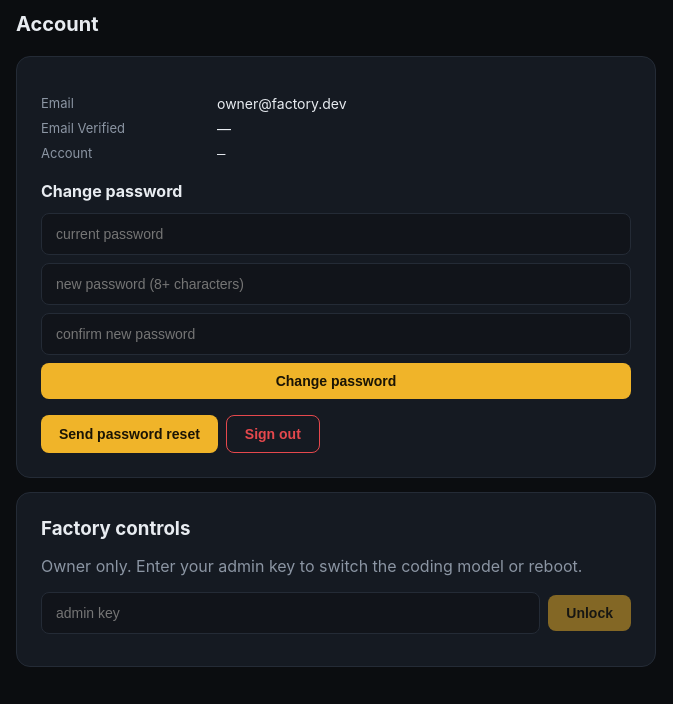
Account change password › posts current and new password and keeps Send password reset
The width and height of the screenshot is (673, 704).
Expected: the heading "Change password" is shown, [41,181,182,201]
Type "old-pass-123" into the password field with placeholder "current password". click: point(336, 234)
box: [41,213,631,255]
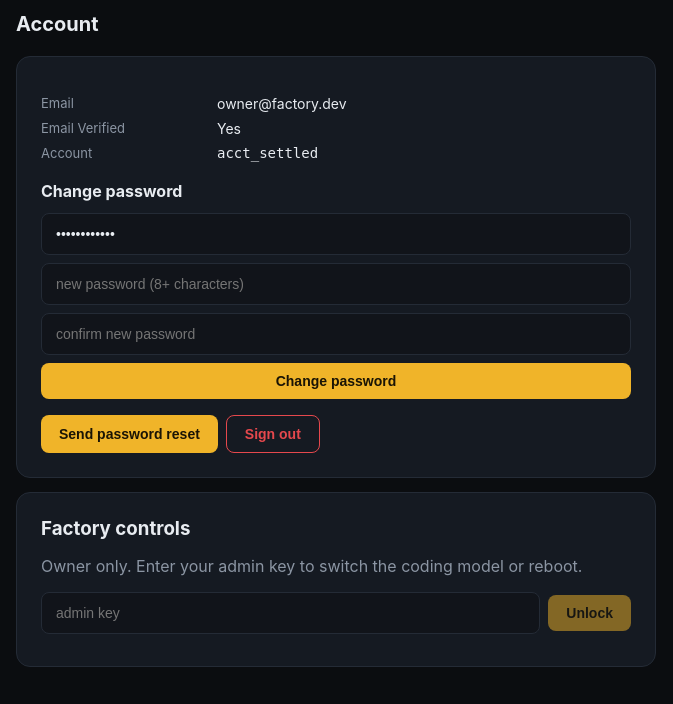
Type "new-pass-456" into the password field with placeholder "new password (8+ characters)". click: point(336, 284)
box: [41,263,631,305]
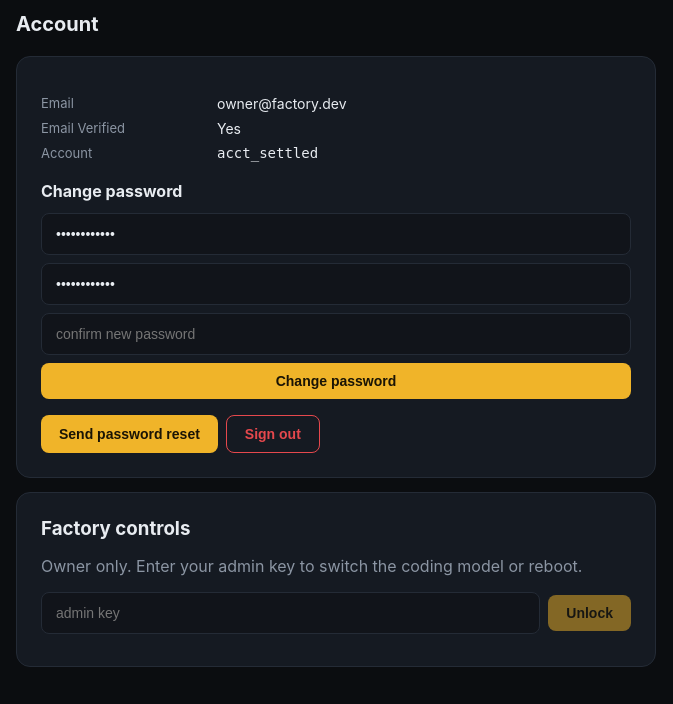
Type "new-pass-456" into the password field with placeholder "confirm new password". click: point(336, 334)
box: [41,313,631,355]
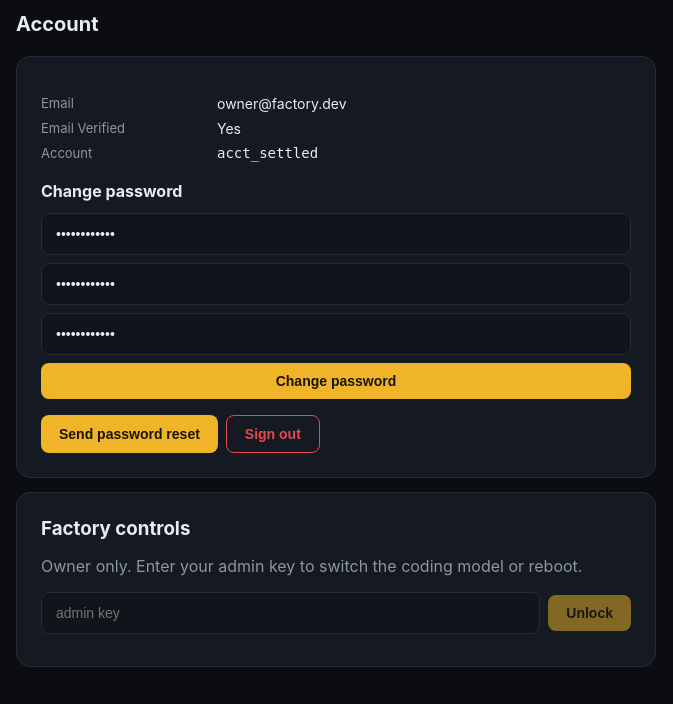
Click the button "Change password". click: point(336, 381)
box: [41,363,631,399]
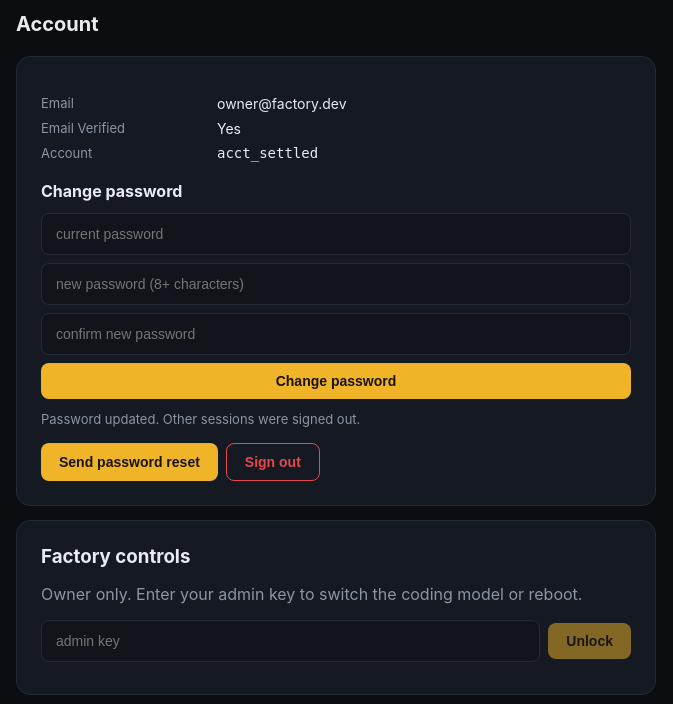
Expected: the button "Send password reset" is shown, [41,443,218,481]
Now the text "Password updated. Other sessions were signed out." is shown, box [41,411,360,427]
Now the password field with placeholder "current password" is empty, box [41,213,631,255]
